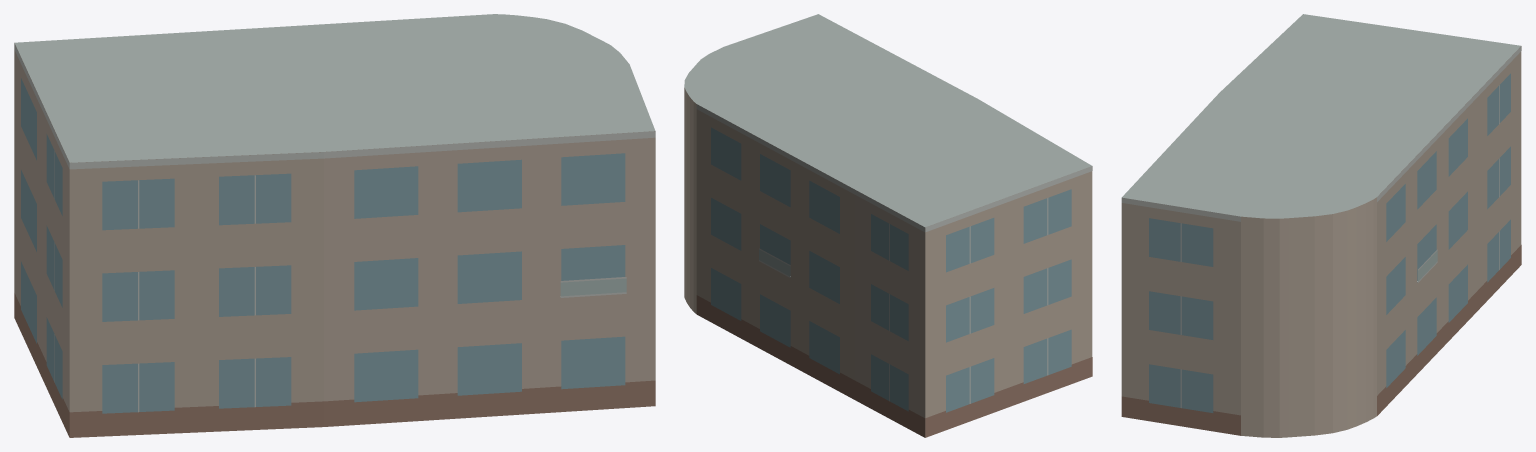
File: survey-upis-32537538.glb
3 renders of one model, left to right at view 1: azimuth 30°, elevation 25°; view 2: azimuth 150°, elevation 25°; view 3: azimuth 270°, elevation 25°, orthographic. The views are drawn at different scales.
Parts seen in each view (by area): view 1: survey-upis-32537538.tmp; view 2: survey-upis-32537538.tmp; view 3: survey-upis-32537538.tmp.
Boxes of the visible parts, <box> form: survey-upis-32537538.tmp: <box>14,14,655,437</box>; survey-upis-32537538.tmp: <box>684,14,1092,437</box>; survey-upis-32537538.tmp: <box>1121,14,1521,437</box>.
Bounding box in the file's own units: 20.23 × 10.1 × 16.7.
